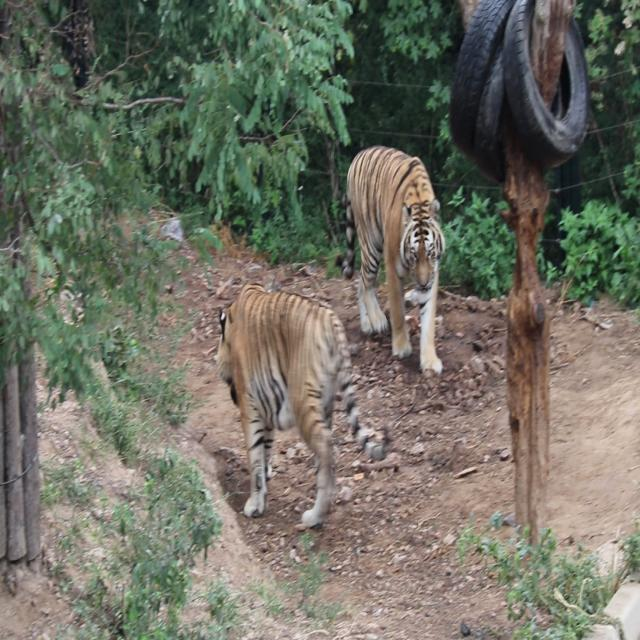Tiger: (206, 270, 403, 560), (326, 146, 453, 381)
